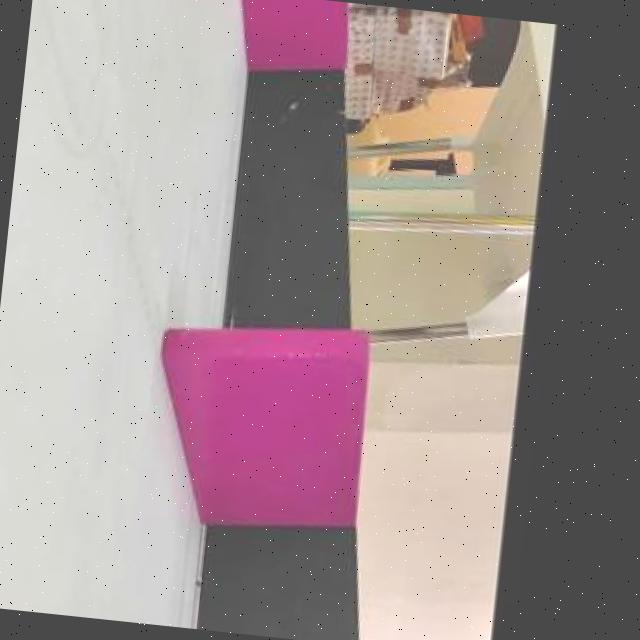xparking: (158, 320, 368, 520), (243, 0, 345, 70)
